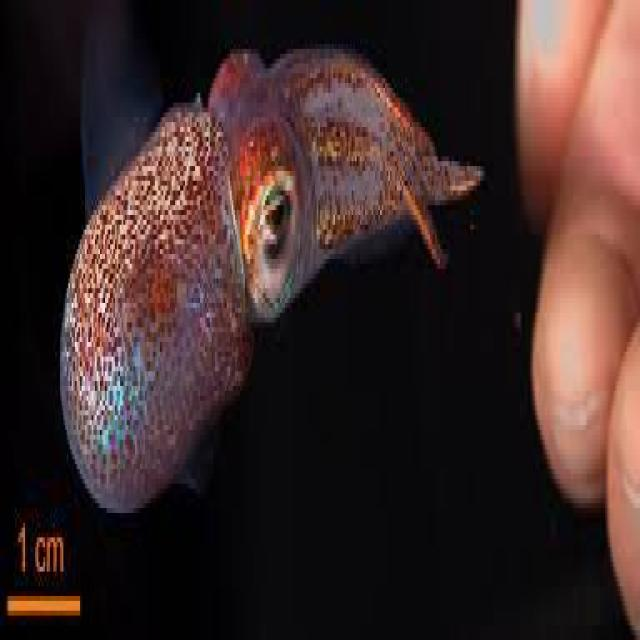squid: (60, 49, 482, 503)
